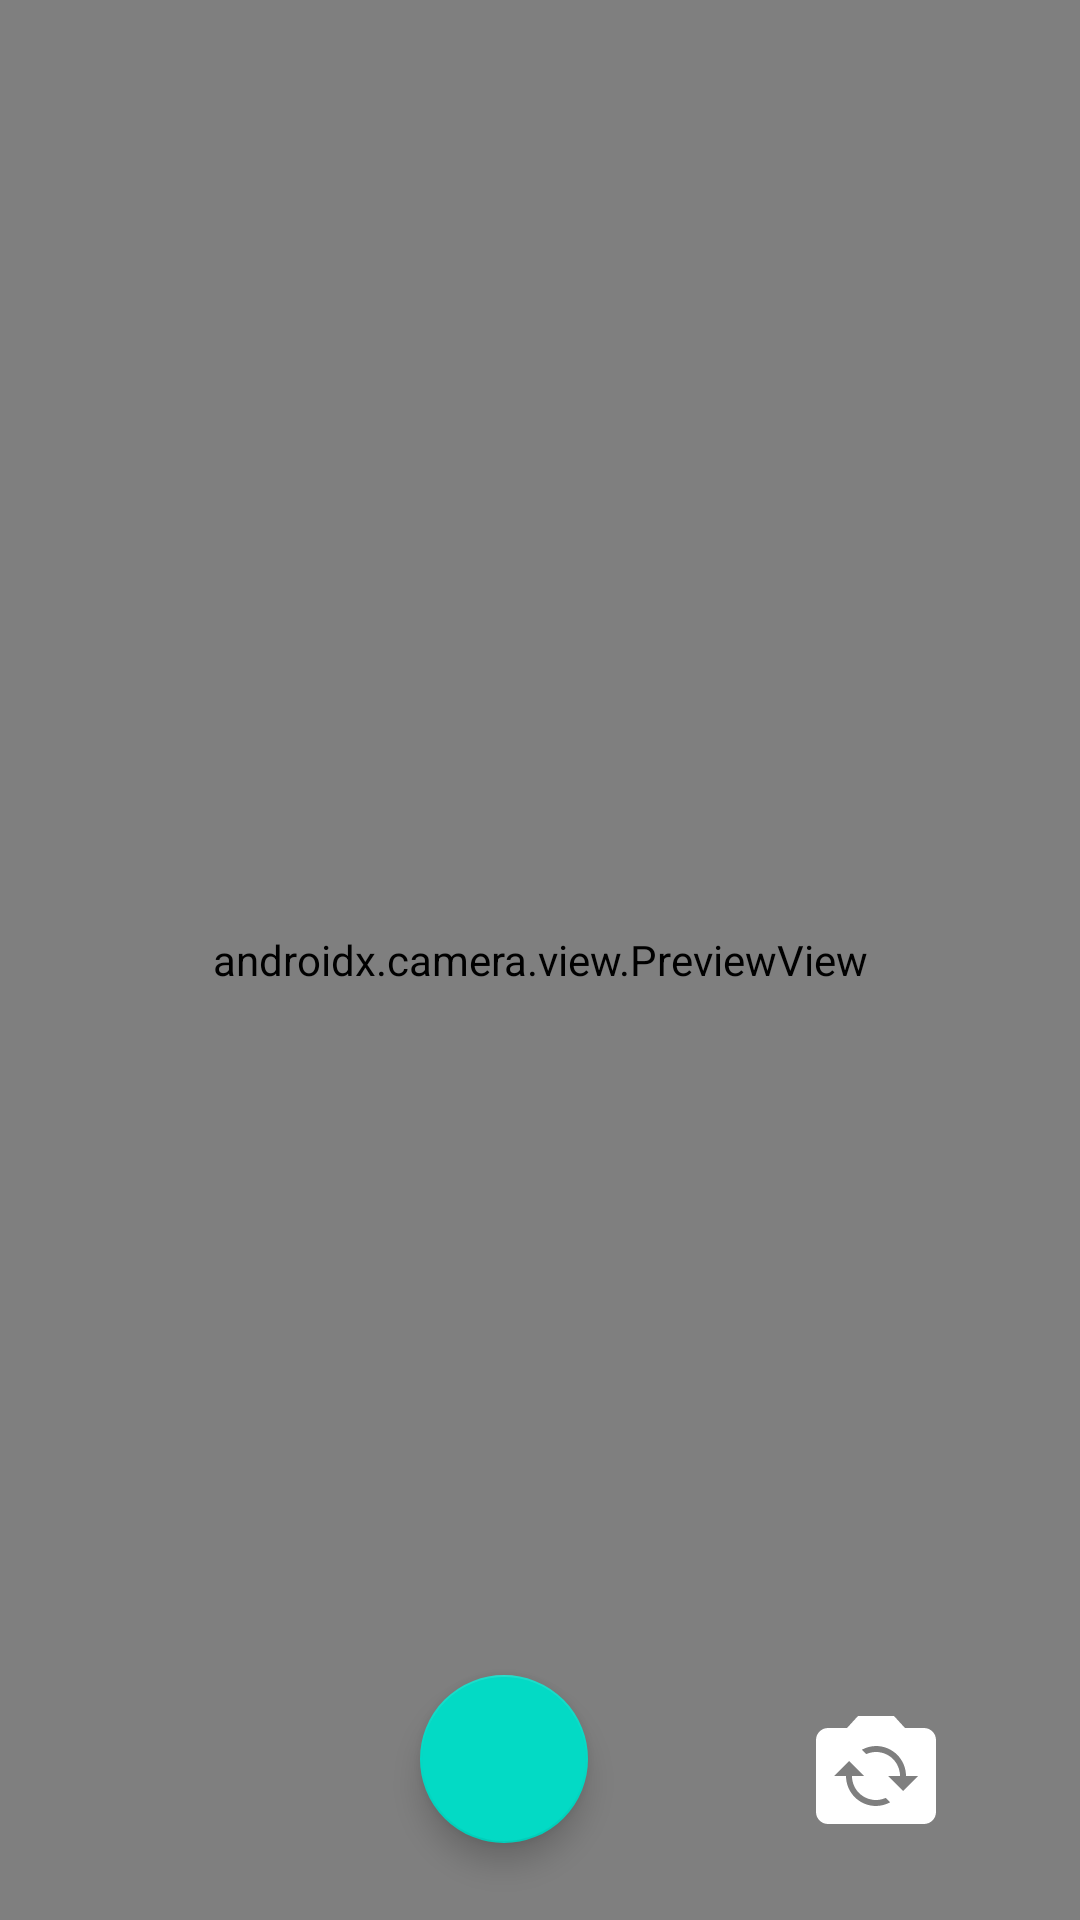

Where icons sit on this 1080px x 1920px app screen, as [x1,y1,x2,y2]:
Flip camera to use: [816,1716,936,1824]
